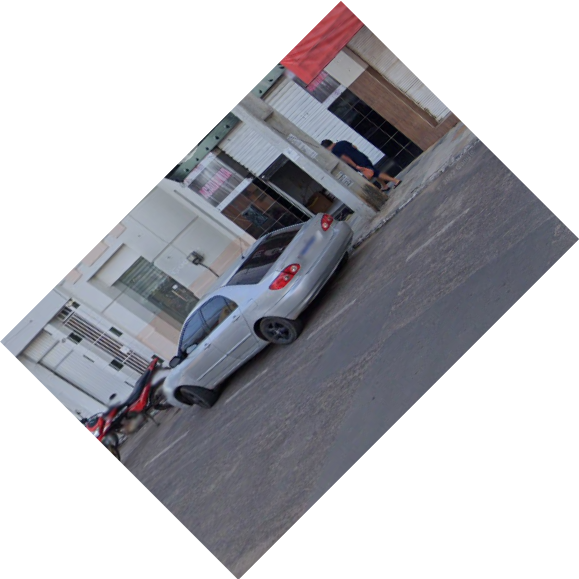car: (160, 209, 357, 417)
